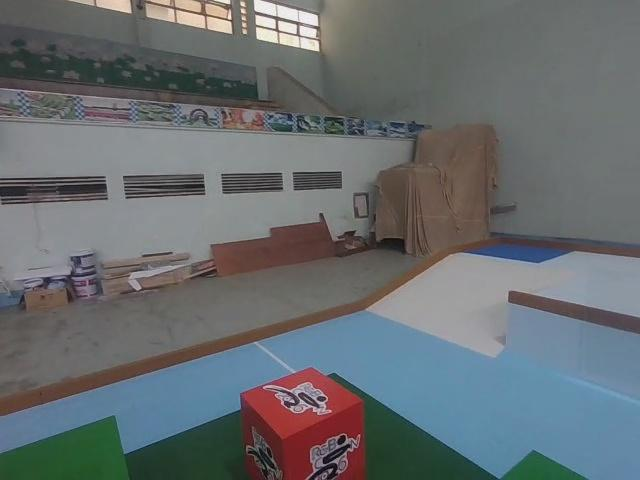R1: (237, 364, 371, 480)
